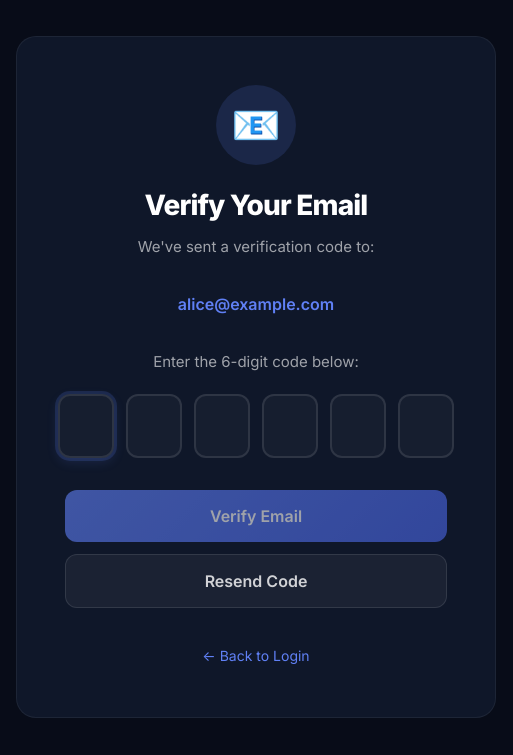
Test: EmailVerification › pending state (no token) › shows resend timer after clicking Resend Code
Step 1. Click the button "Resend Code" → [256, 581], box 65,554 -> 447,608
Wait 1100 ms
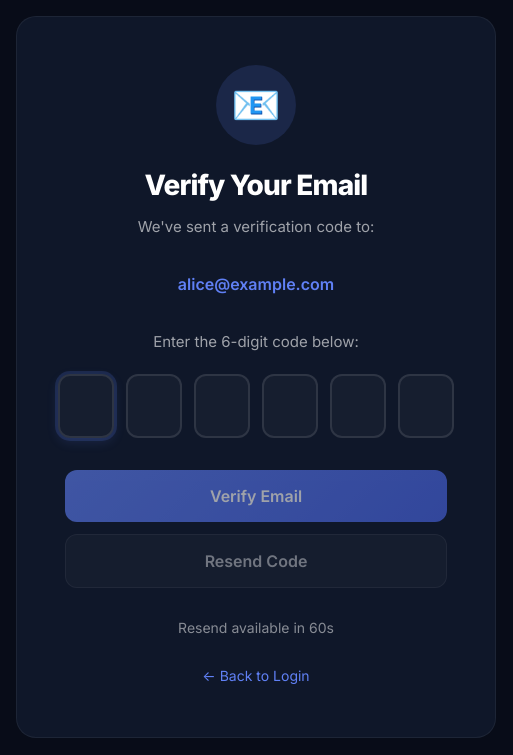
Expected: the text "Resend available in 60s" is shown, 178,619 -> 334,636
